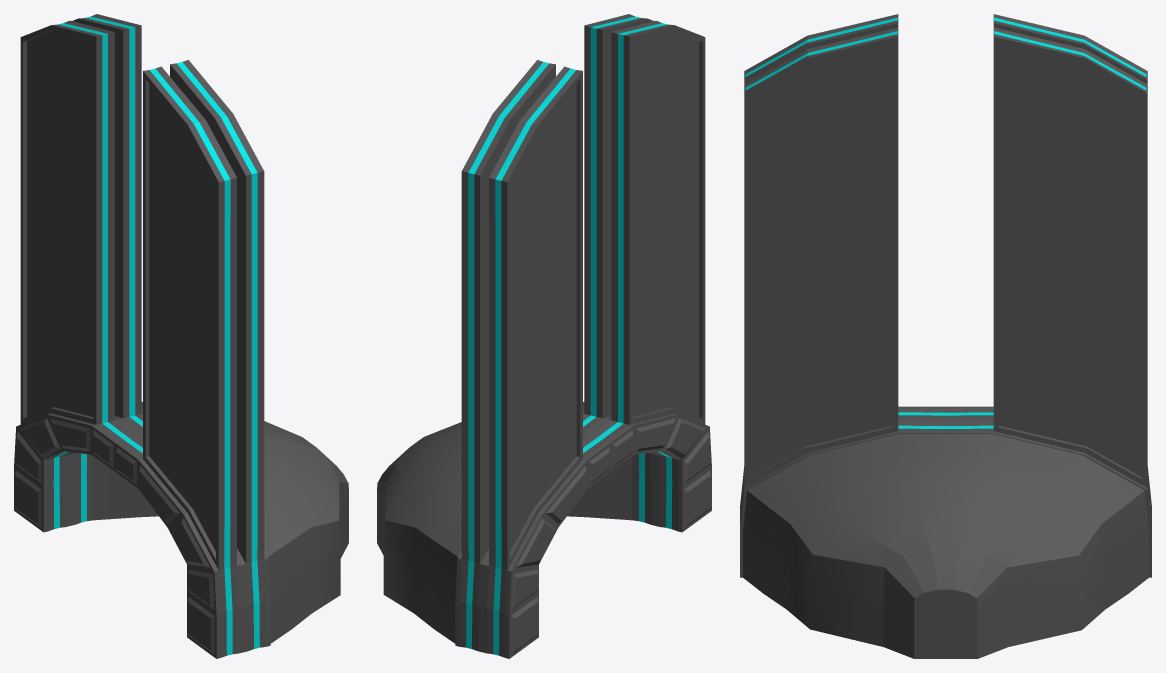
Rendered from future_startFinish.fbx.
The picture shows the model from 3 angles, left to right: view 1: azimuth 30°, elevation 25°; view 2: azimuth 150°, elevation 25°; view 3: azimuth 270°, elevation 25°; orthographic projection.
Visible parts, largest first — view 1: future_startFinish; view 2: future_startFinish; view 3: future_startFinish.
Part boxes in pixels (box(x1,y1,x2,y2)): future_startFinish: box(14, 14, 348, 658); future_startFinish: box(377, 14, 711, 658); future_startFinish: box(740, 14, 1151, 658).
Size of the model in its own units: 1.2 by 2.75 by 1.91.
